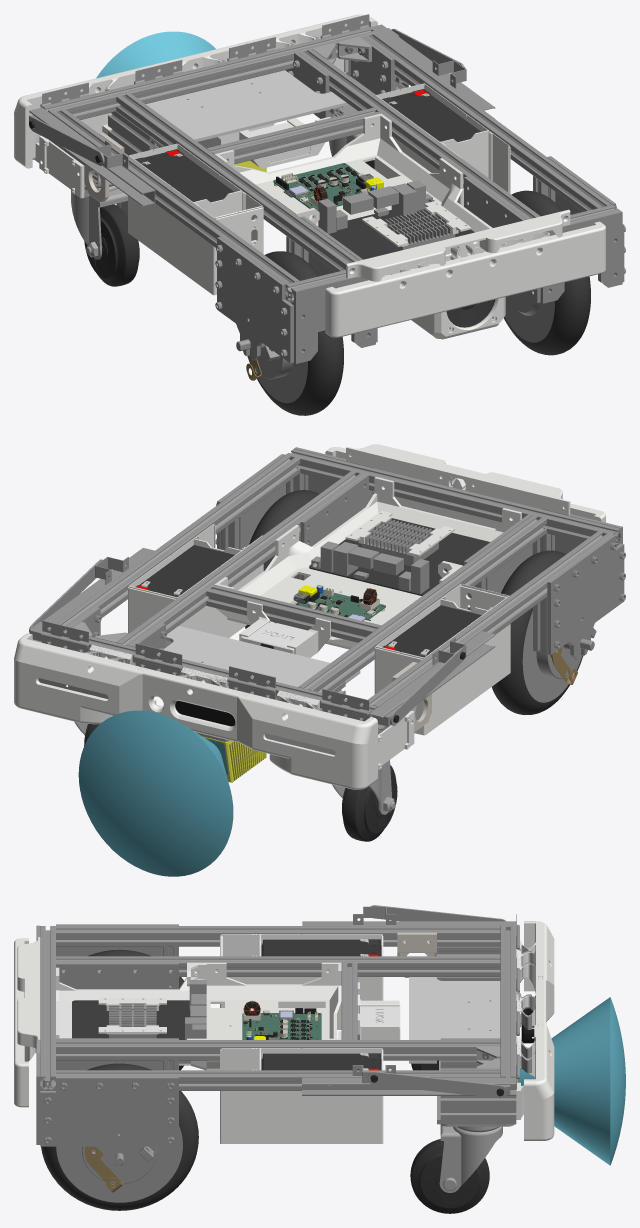
Rendered from MainFrame - Reverse Prototype v10.fbx.
3 views of the same model, one above another, from view 1: azimuth 30°, elevation 25°; view 2: azimuth 150°, elevation 25°; view 3: azimuth 270°, elevation 25° (orthographic). The views are drawn at different scales.
Parts seen in each view (by area): view 1: Body1 (×20), Body3 (×3), Bumper_B2, Foward Base, Bumper_B1, Body10 (×2), Body6 (×2), MD_POWER_Base, Battery_Case_Right_12V7.2Ah (1) (1), Body2 (×3), Body21, Body15 (+23 smaller); view 2: Body1 (×17), Body34, Bumper_F3, Bumper_F1, Body10 (×2), Body2 (×3), Body5, Battery_Case_Right_12V7.2Ah (1) (1), Body21, Body3 (×2), N100_Base, Body15 (+18 smaller); view 3: Body1 (×14), Battery_Case_Right_12V7.2Ah (1) (1) (1), Body2 (×3), Body34, Body15, Body21, MD_POWER_Base, Body10 (×2), Foward Base, Body9, Body3 (×2), Bumper_F1 (+17 smaller).
Part boxes in pixels (x1=…): Body1 (×20): x1=29, y1=14, x2=624, y2=363; Body3 (×3): x1=247, y1=60, x2=590, y2=415; Bumper_B2: x1=325, y1=256, x2=471, y2=337; Foward Base: x1=146, y1=70, x2=349, y2=147; Bumper_B1: x1=460, y1=221, x2=605, y2=305; Body10 (×2): x1=363, y1=33, x2=611, y2=251; Body6 (×2): x1=42, y1=27, x2=416, y2=216; MD_POWER_Base: x1=214, y1=113, x2=452, y2=226; Battery_Case_Right_12V7.2Ah (1) (1): x1=128, y1=143, x2=263, y2=295; Body2 (×3): x1=29, y1=28, x2=464, y2=293; Body21: x1=116, y1=93, x2=358, y2=271; Body15: x1=298, y1=49, x2=540, y2=219; Body1 (×17): x1=29, y1=454, x2=624, y2=841; Body34: x1=78, y1=710, x2=233, y2=876; Bumper_F3: x1=237, y1=690, x2=377, y2=789; Bumper_F1: x1=14, y1=633, x2=147, y2=724; Body10 (×2): x1=56, y1=455, x2=438, y2=629; Body2 (×3): x1=30, y1=531, x2=611, y2=725; Body5: x1=286, y1=449, x2=620, y2=545; Battery_Case_Right_12V7.2Ah (1) (1): x1=374, y1=584, x2=510, y2=735; Body21: x1=298, y1=515, x2=546, y2=692; Body3 (×2): x1=245, y1=490, x2=583, y2=715; N100_Base: x1=286, y1=477, x2=521, y2=598; Body15: x1=116, y1=471, x2=364, y2=646; Body1 (×14): x1=36, y1=921, x2=516, y2=1213; Battery_Case_Right_12V7.2Ah (1) (1) (1): x1=220, y1=1048, x2=383, y2=1143; Body2 (×3): x1=56, y1=905, x2=507, y2=1098; Body34: x1=517, y1=997, x2=625, y2=1165; Body15: x1=56, y1=1040, x2=500, y2=1060; Body21: x1=56, y1=956, x2=500, y2=976; MD_POWER_Base: x1=206, y1=962, x2=341, y2=1070; Body10 (×2): x1=56, y1=1003, x2=500, y2=1090; Foward Base: x1=409, y1=977, x2=500, y2=1063; Body9: x1=56, y1=1126, x2=182, y2=1202; Body3 (×2): x1=41, y1=906, x2=396, y2=1210; Bumper_F1: x1=516, y1=1023, x2=554, y2=1140.
Bounding box in the file's own units: 505 × 236 × 771.
